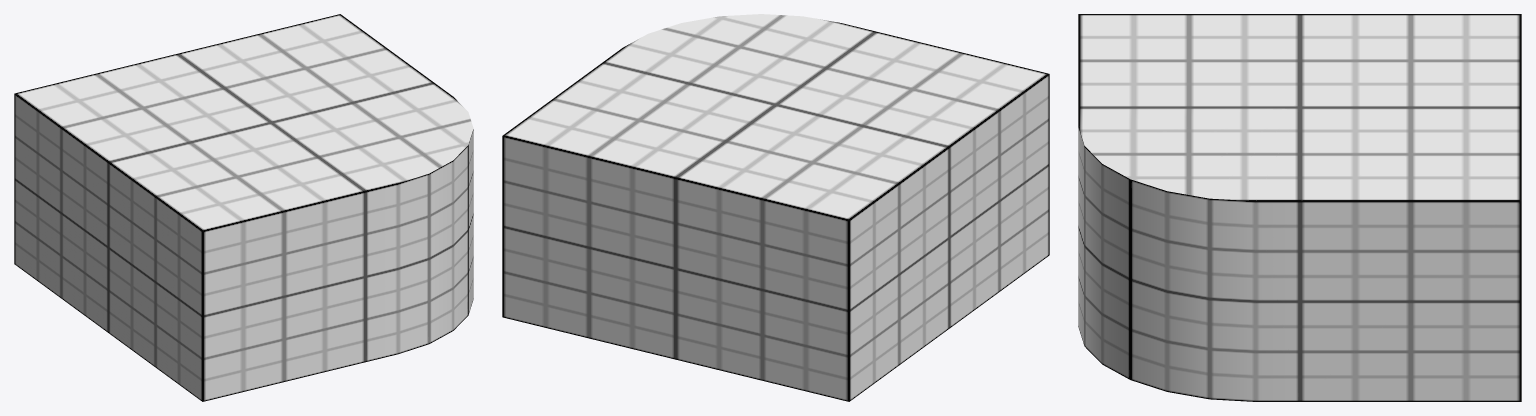
Rendered from cube-arc.fbx.
3 views of the same model, side by side, from view 1: azimuth 30°, elevation 25°; view 2: azimuth 150°, elevation 25°; view 3: azimuth 270°, elevation 25° (orthographic). The views are drawn at different scales.
Visible parts, largest first — view 1: Yplus, Zplus, Xminus, Xplus; view 2: Yplus, Zminus, Xminus; view 3: Yplus, Xplus, Zplus.
Part boxes in pixels (box(x1,y1,x2,y2)): Yplus: box(14, 14, 473, 231); Zplus: box(202, 145, 468, 401); Xminus: box(14, 94, 202, 401); Xplus: box(468, 129, 473, 315); Yplus: box(502, 14, 1048, 220); Zminus: box(502, 136, 849, 401); Xminus: box(849, 74, 1049, 401); Yplus: box(1078, 14, 1521, 201); Xplus: box(1130, 179, 1521, 401); Zplus: box(1078, 126, 1130, 379).
Size of the model in its own units: 100 by 50 by 100.
